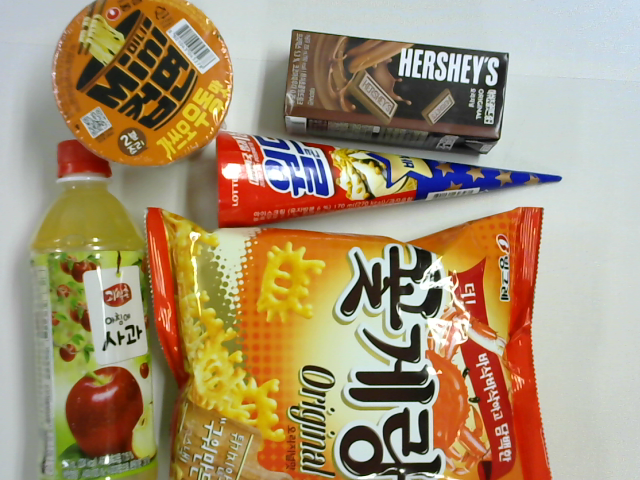Crabrang: (145, 196, 554, 480)
Hush_Choco_Drink: (283, 30, 506, 157)
Morning_Apple_500ml: (33, 138, 166, 480)
Udongmini: (52, 1, 237, 172)
World_Cone_Banila: (212, 129, 566, 223)
